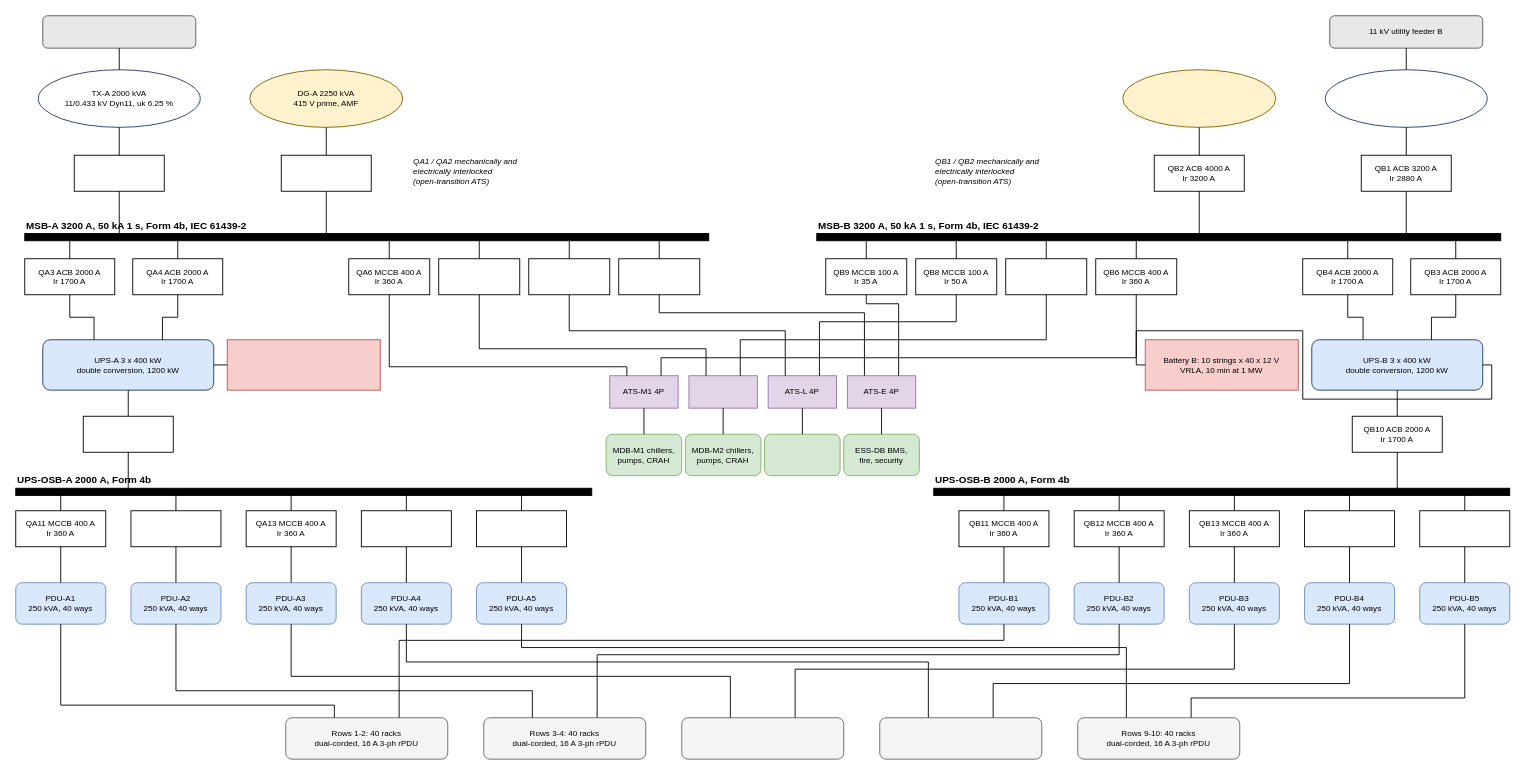
Some shapes in this 1526 by 775 pixel diagram are drawn without their labels. Here are the shapes that lost their labels. From the top down, the centre of each, then its label:
At (119,31): "11 kV utility feeder A".
At (1199,98): "DG-B 2250 kVA 415 V prime, AMF".
At (1405,98): "TX-B 2000 kVA 11/0.433 kV Dyn11, uk 6.25 %".
At (118,172): "QA1 ACB 3200 A Ir 2880 A".
At (325,172): "QA2 ACB 4000 A Ir 3200 A".
At (479,276): "QA7 MCCB 400 A Ir 360 A".
At (569,276): "QA8 MCCB 100 A Ir 50 A".
At (659,276): "QA9 MCCB 100 A Ir 35 A".
At (1046,276): "QB7 MCCB 400 A Ir 360 A".
At (303,364): "Battery A: 10 strings x 40 x 12 V VRLA, 10 min at 1 MW".
At (722,391): "ATS-M2 4P".
At (127,433): "QA10 ACB 2000 A Ir 1700 A".
At (802,454): "LDB lighting, small power".
At (175,528): "QA12 MCCB 400 A Ir 360 A".
At (405,528): "QA14 MCCB 400 A Ir 360 A".
At (521,528): "QA15 MCCB 400 A Ir 360 A".
At (1349,528): "QB14 MCCB 400 A Ir 360 A".
At (1464,528): "QB15 MCCB 400 A Ir 360 A".
At (762,738): "Rows 5-6: 40 racks dual-corded, 16 A 3-ph rPDU".
At (960,738): "Rows 7-8: 40 racks dual-corded, 16 A 3-ph rPDU".
